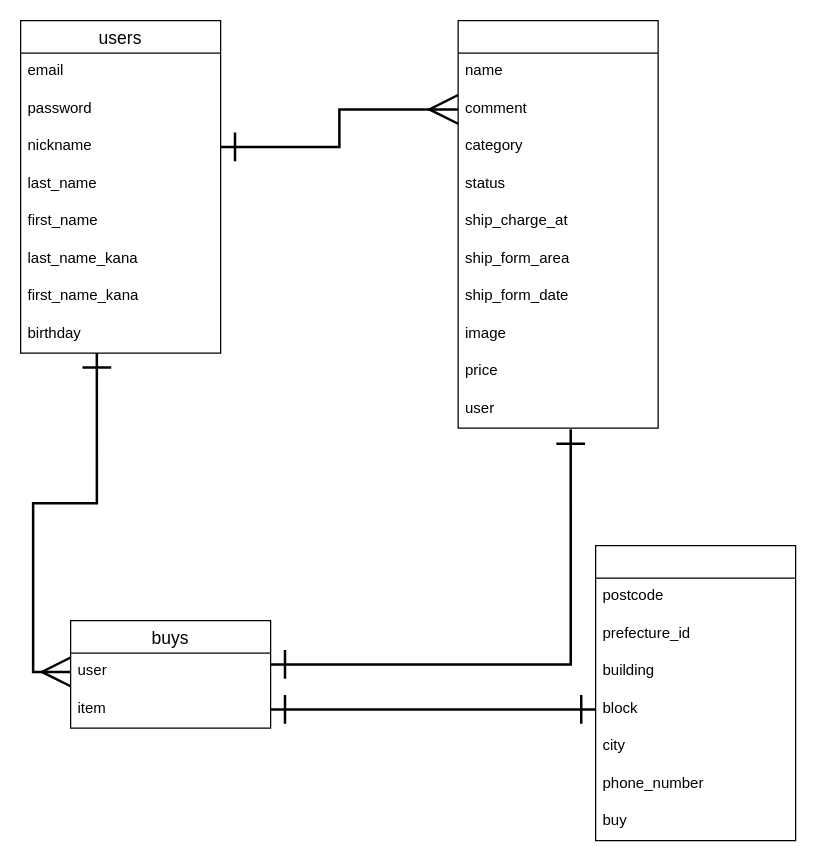
The diagram is 816 pixels wide and 861 high, and some of its shapes have lost their labels. The box of each missing label's shape, as (x1, y1, x2, y2) in pixels:
address: (594, 544, 796, 841)
items: (457, 19, 658, 428)
